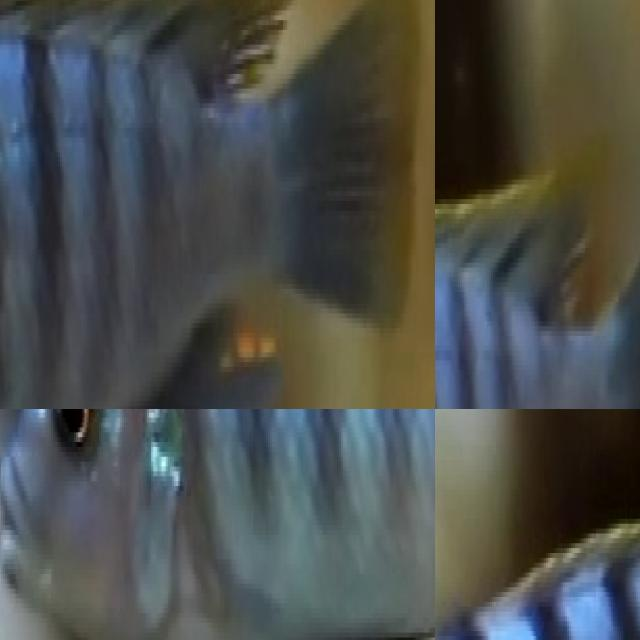fish: (0, 0, 435, 409), (435, 170, 640, 409), (435, 475, 640, 640)
